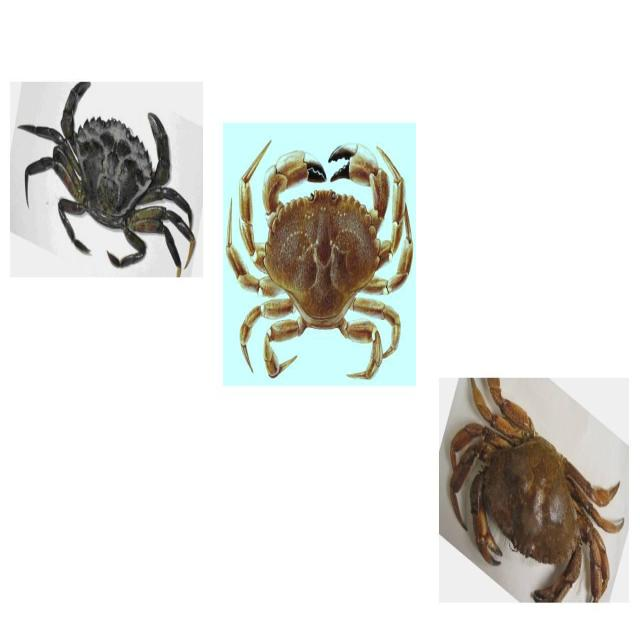egc: (18, 78, 196, 280)
